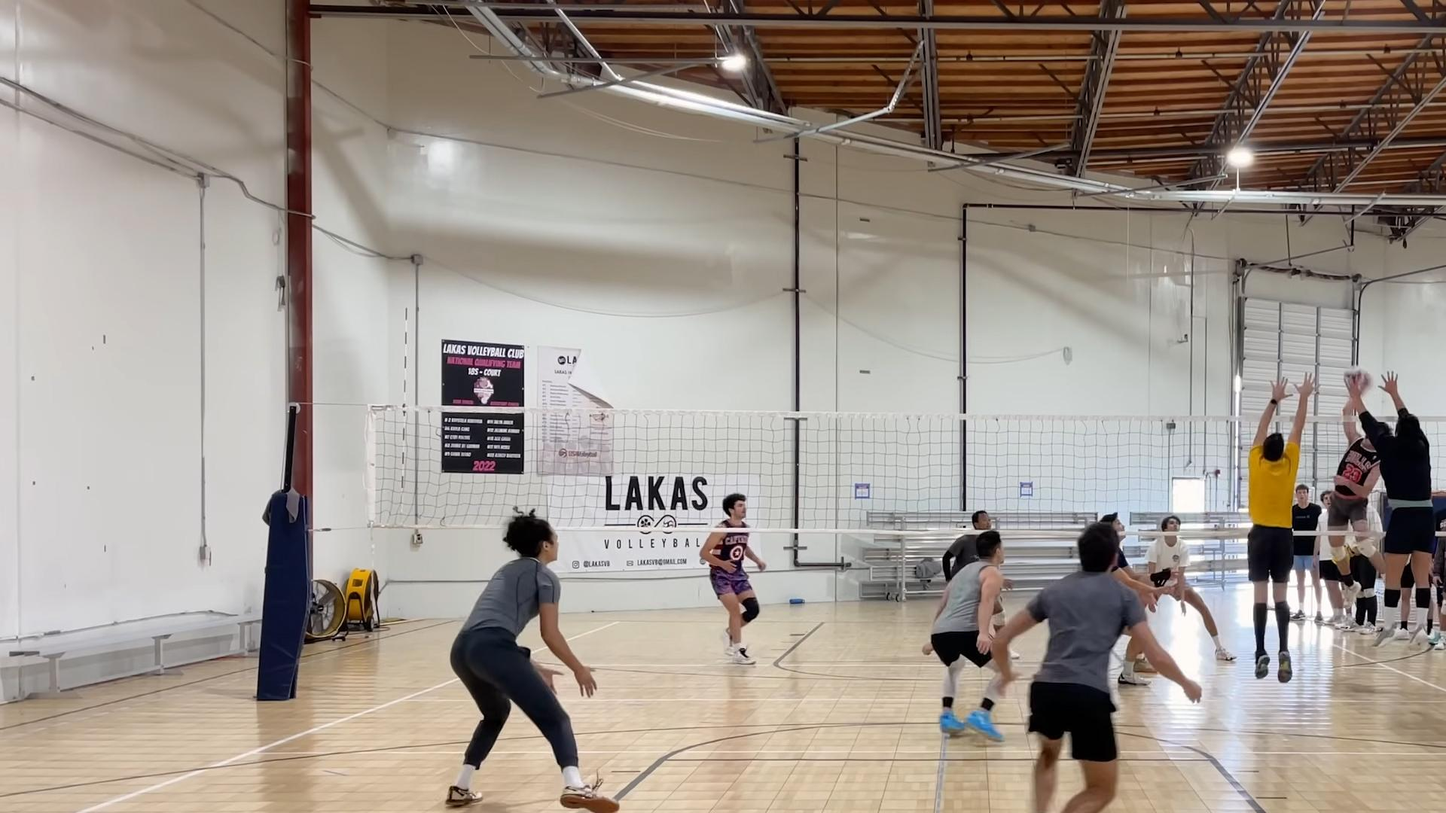attacco: (1318, 383, 1387, 589)
muro: (1343, 369, 1440, 645), (1248, 373, 1320, 685)
